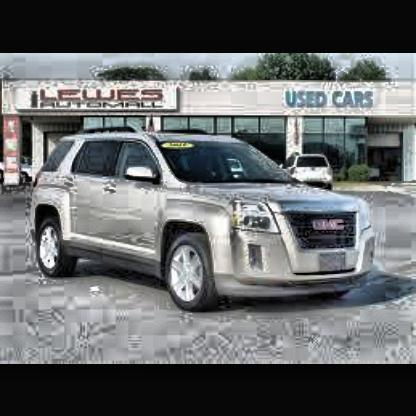GMC Terrain SUV 2012: (27, 153, 391, 312)
